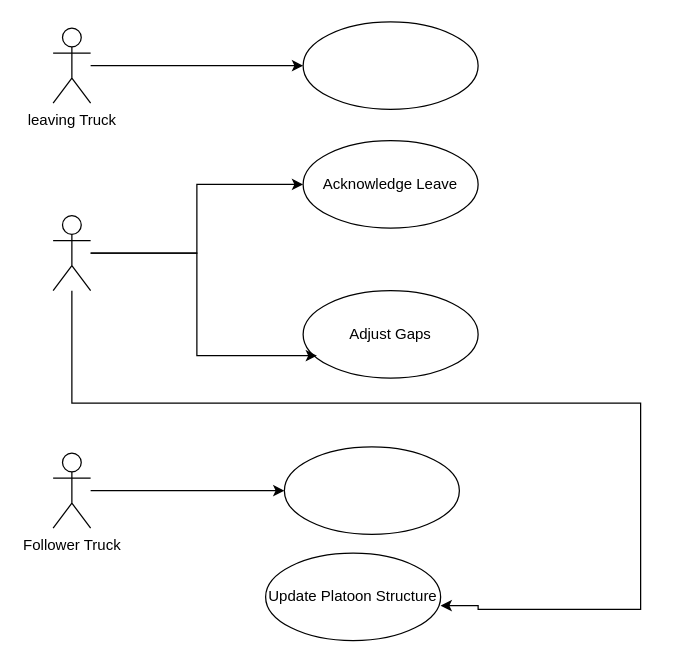
Some shapes in this 673 by 663 pixel diagram are drawn without their labels. The shapes that lost their labels are listed below. From the top down, each one's centre as x and y in pixels, then its label:
the point at 390,65: Send Leave Request
the point at 71,252: Platoon Leader
the point at 371,490: Execute Leave Maneuver
